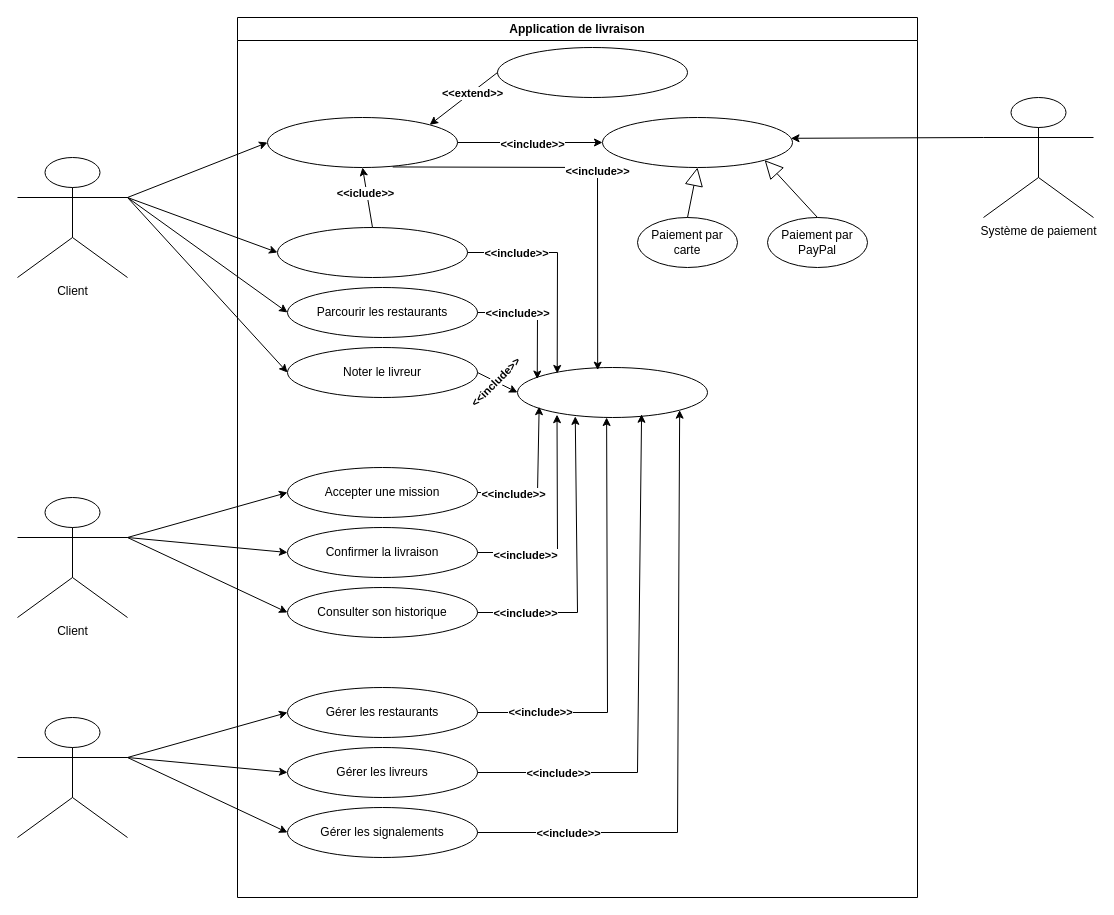
The diagram is 1114 pixels wide and 915 high, and some of its shapes have lost their labels. The centre of each missing label's shape, as x and y in pixels:
Admin: point 72,777
Ajouter un code promo: point 592,72
Passer une commande: point 362,142
S'inscrire: point 612,392
Suivre la livraison: point 372,252
Traiter le paiement: point 697,142
